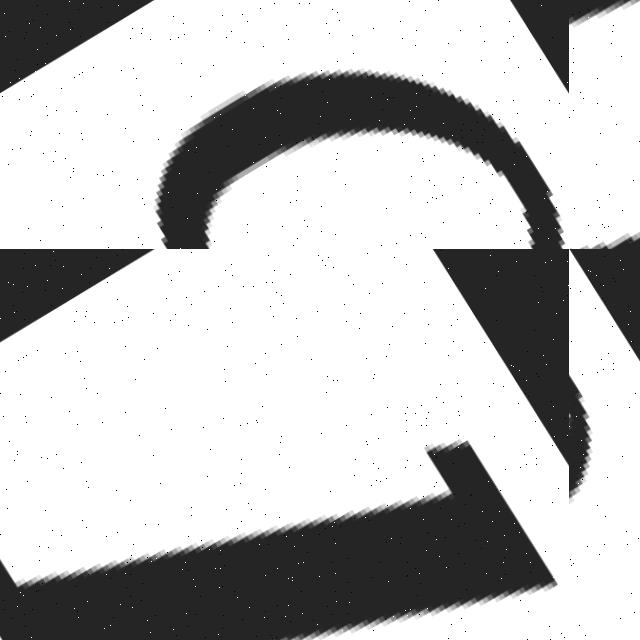L: (0, 288, 549, 640)
Q: (0, 0, 569, 249)
S: (569, 249, 640, 640)
U: (569, 0, 640, 249)
